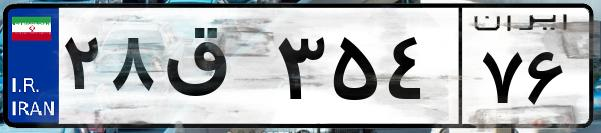2: (57, 26, 110, 100)
3: (270, 28, 330, 110)
4: (385, 28, 445, 110)
5: (330, 28, 385, 110)
6: (525, 38, 570, 115)
7: (475, 38, 525, 113)
8: (110, 28, 158, 98)
ق: (158, 20, 270, 120)
